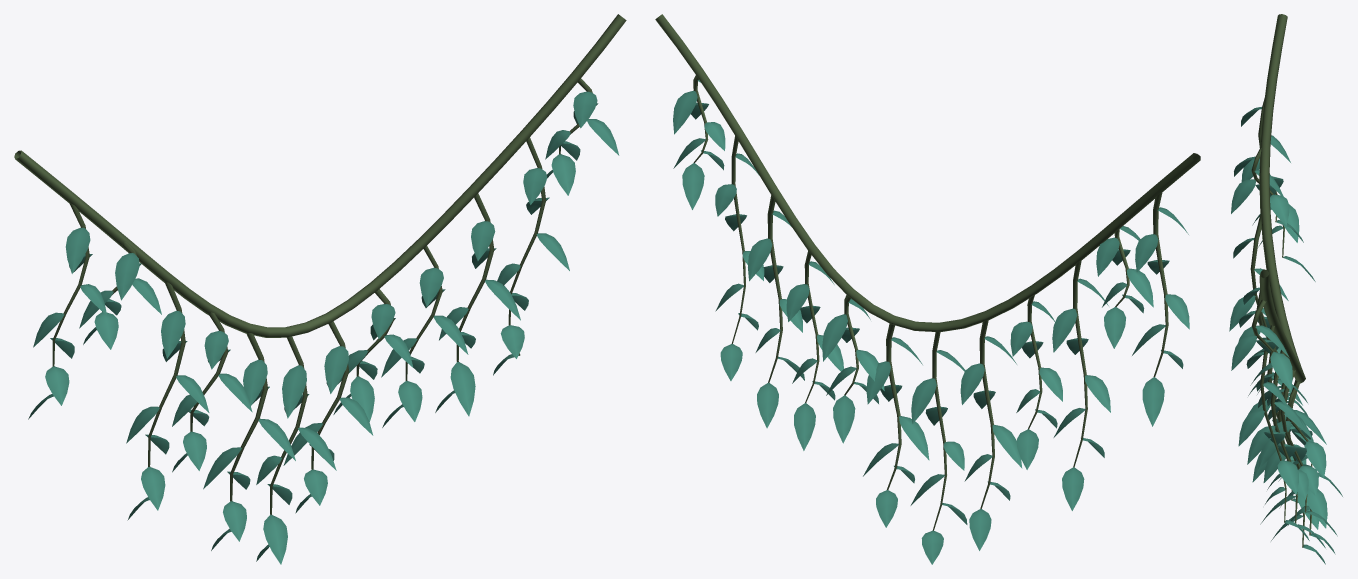
File: Curtain Vine.glb
3 renders of one model, left to right at view 1: azimuth 30°, elevation 25°; view 2: azimuth 150°, elevation 25°; view 3: azimuth 270°, elevation 25°, orthographic. The views are drawn at different scales.
Parts seen in each view (by area): view 1: Curtain Vine; view 2: Curtain Vine; view 3: Curtain Vine.
Part boxes in pixels (x1,y1,x2,y2): Curtain Vine: (14,14,626,564); Curtain Vine: (655,14,1200,564); Curtain Vine: (1229,14,1342,564).
Size of the model in its own units: 6.07 by 4.75 by 1.12.
